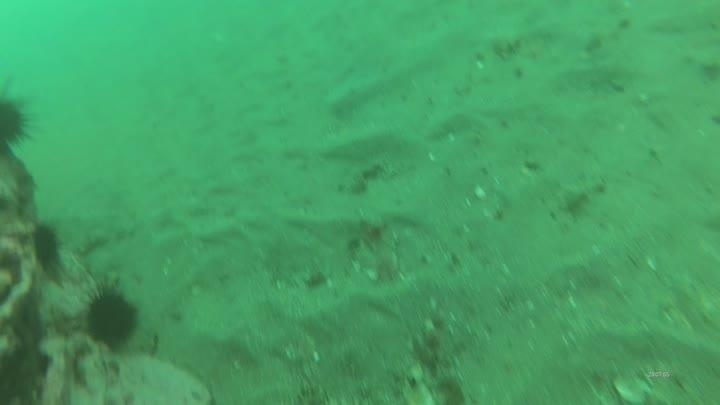echinus: (79, 279, 144, 354), (0, 89, 38, 157), (28, 220, 65, 274)
